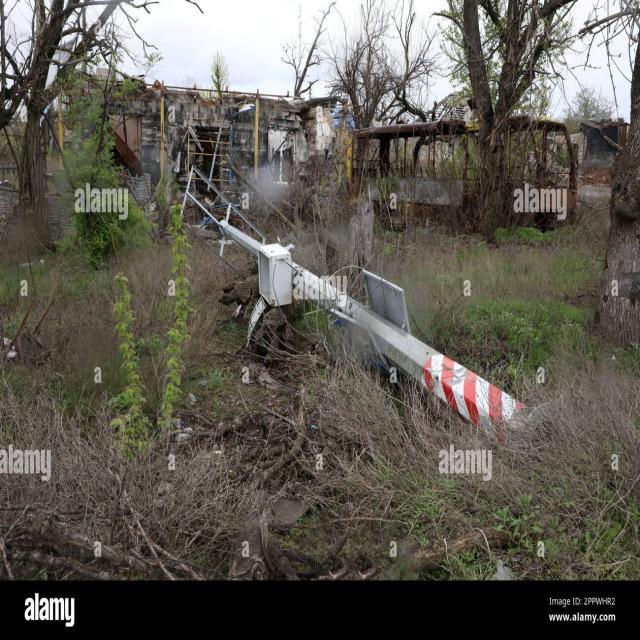Broken Pole: (185, 169, 518, 465)
